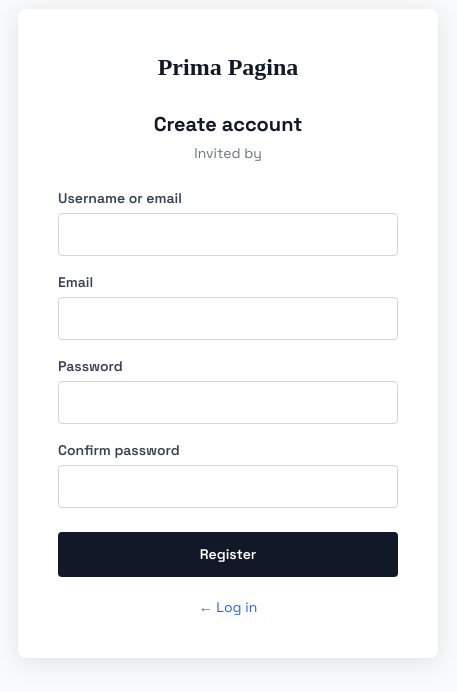
Scenario: RegisterView › shows password mismatch error
Type "password123" into the 1st password field at (228, 402), box [58,380,398,424]
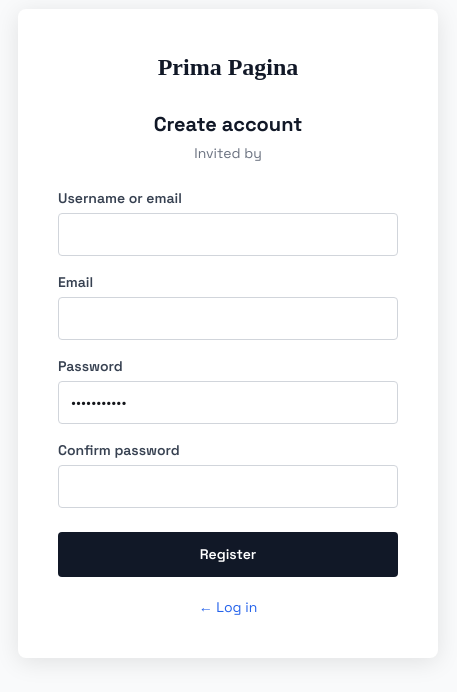
Type "different456" into the password field below "Confirm password" at (228, 486), box [58,464,398,508]
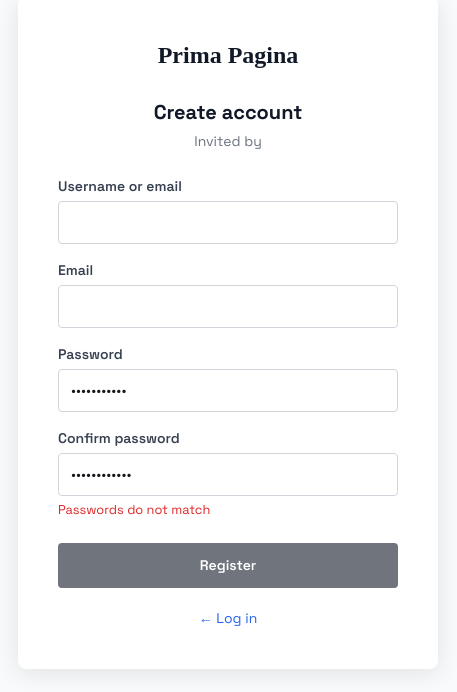
Expected: the text "Passwords do not match" is shown, [58,501,210,518]
